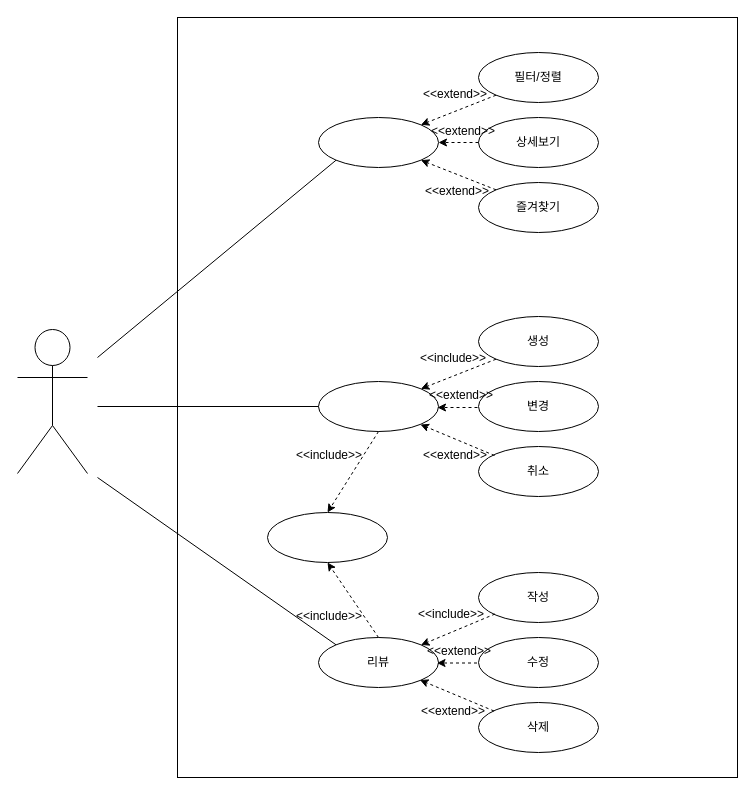
Some shapes in this 755 by 795 pixel diagram are drawn without their labels. Each missing label, with the centre of its shape:
Client: point (52, 401)
검색/발견: point (378, 142)
로그인: point (327, 537)
예약: point (378, 406)
